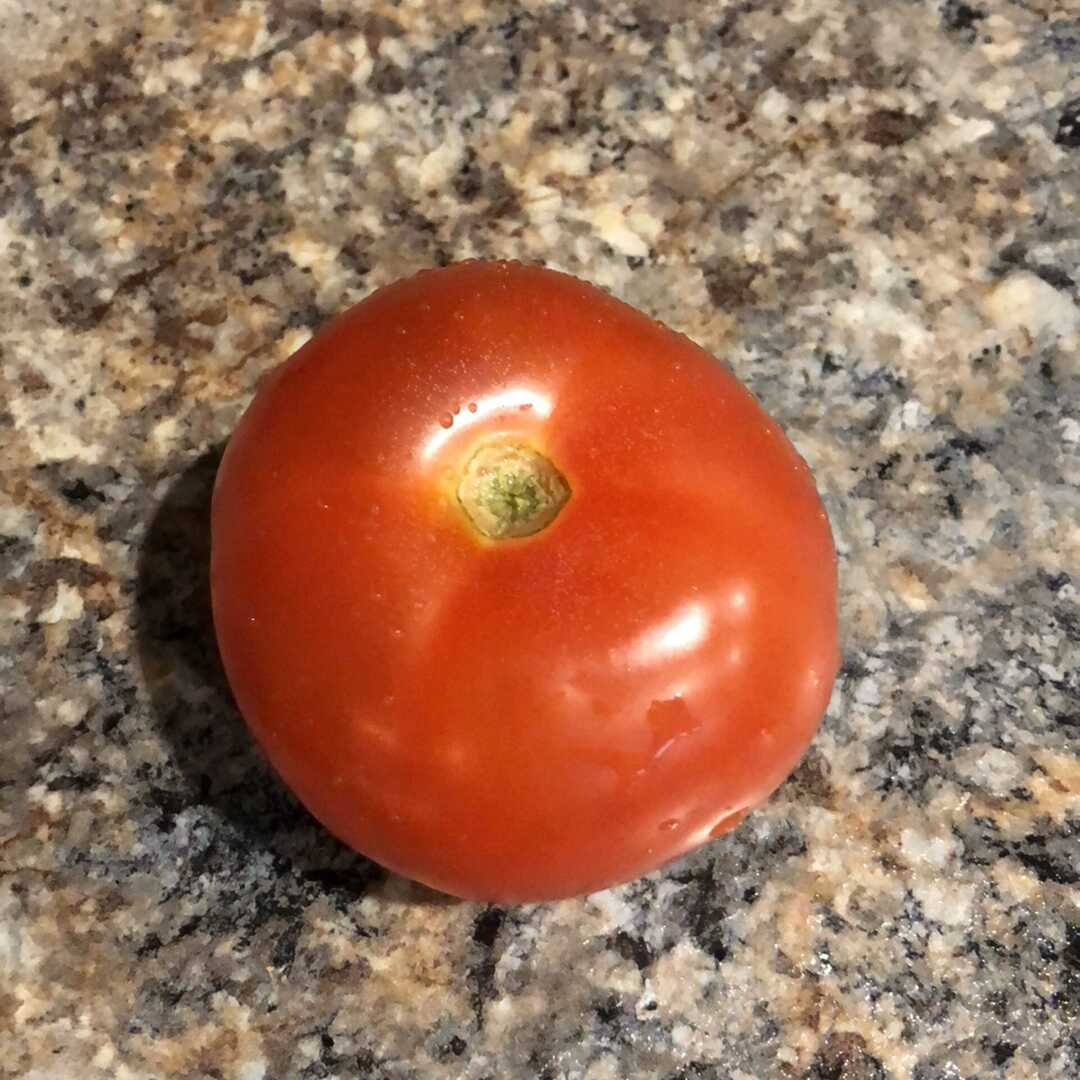tomato: (207, 260, 841, 901)
